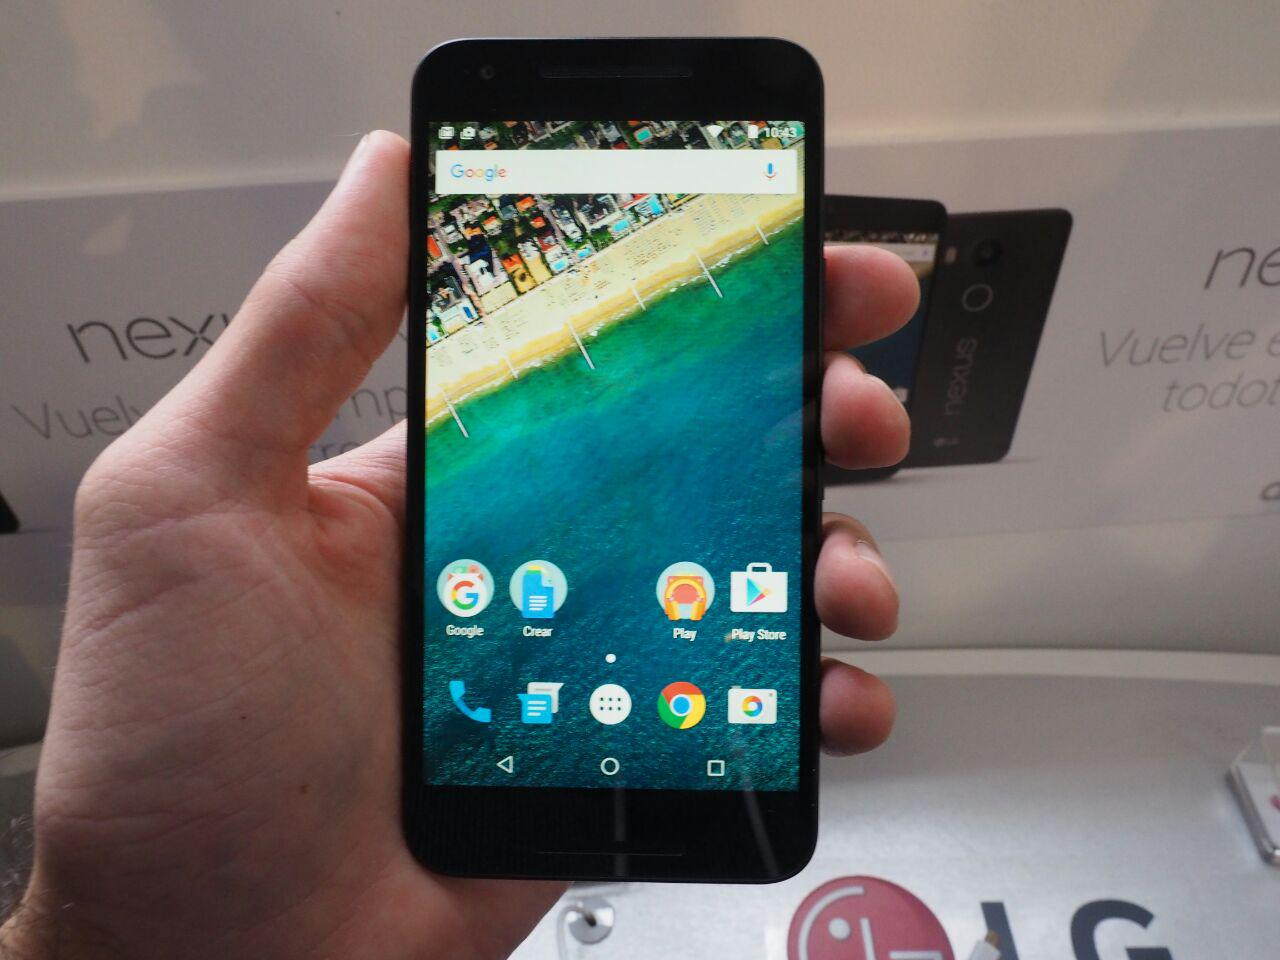smartphone: (400, 35, 826, 883)
